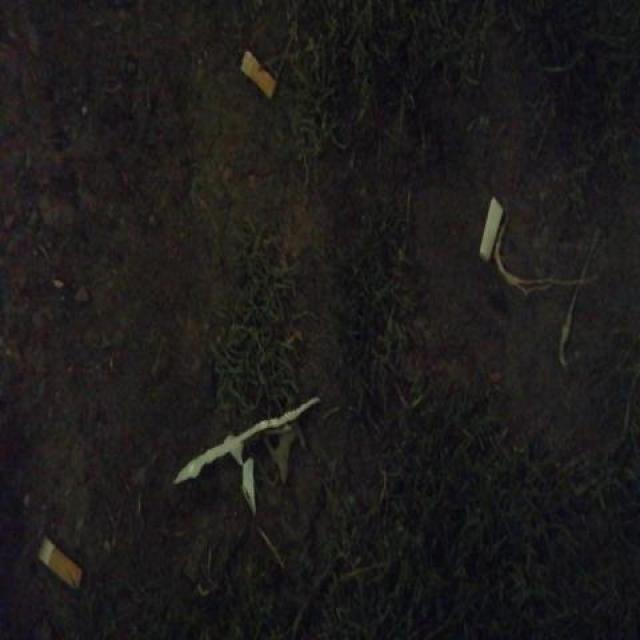non-organic waste: (35, 530, 86, 598), (234, 44, 281, 104), (474, 190, 506, 262)
